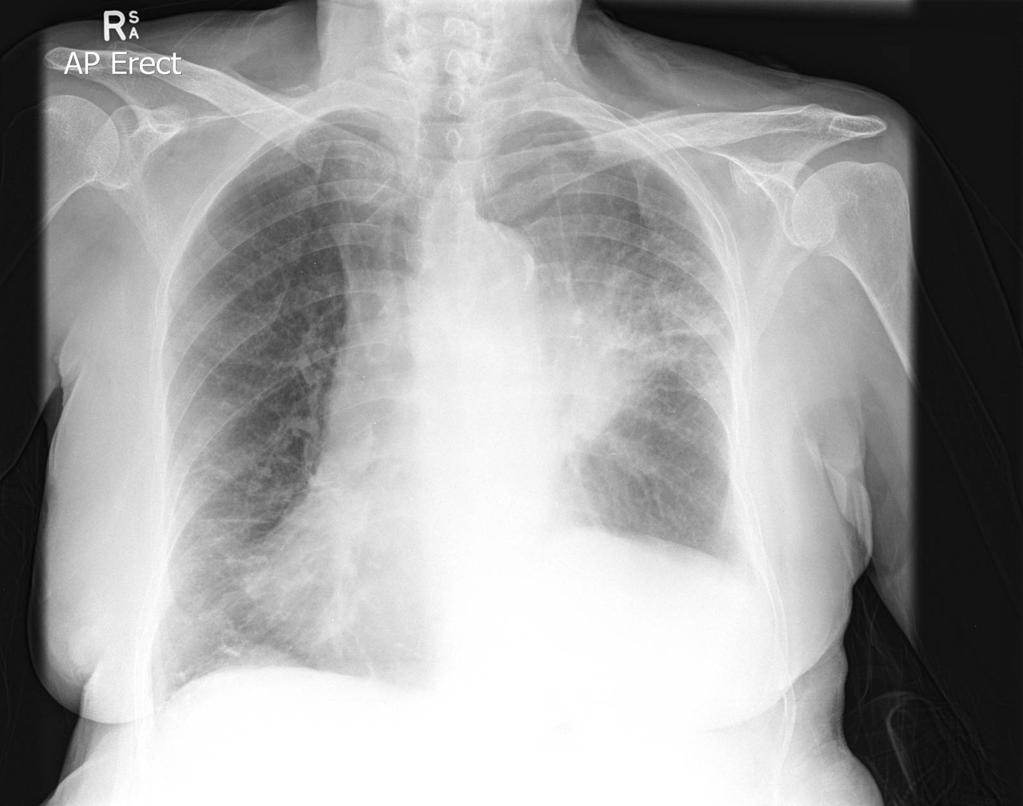cancer: (171, 119, 436, 692), (500, 119, 750, 565)
